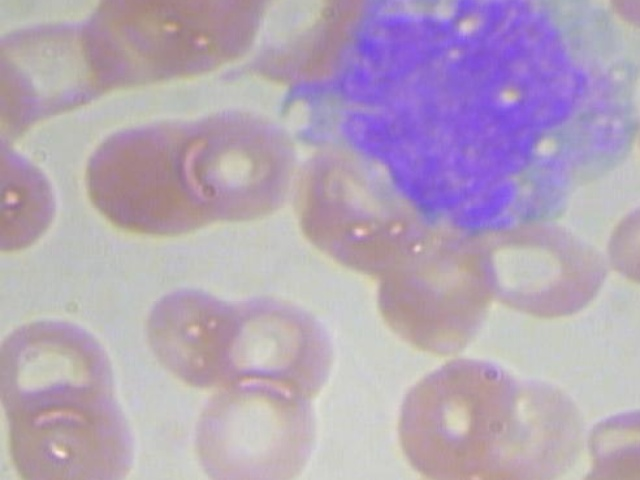RBC: (390, 348, 527, 480), (204, 286, 344, 407), (0, 7, 132, 128), (165, 101, 298, 218), (476, 215, 611, 324), (187, 376, 327, 480), (0, 309, 116, 426), (0, 382, 136, 480), (139, 284, 252, 390), (0, 123, 66, 259), (593, 193, 640, 302), (570, 441, 640, 480), (633, 71, 640, 207)
WBC: (277, 0, 640, 247)
